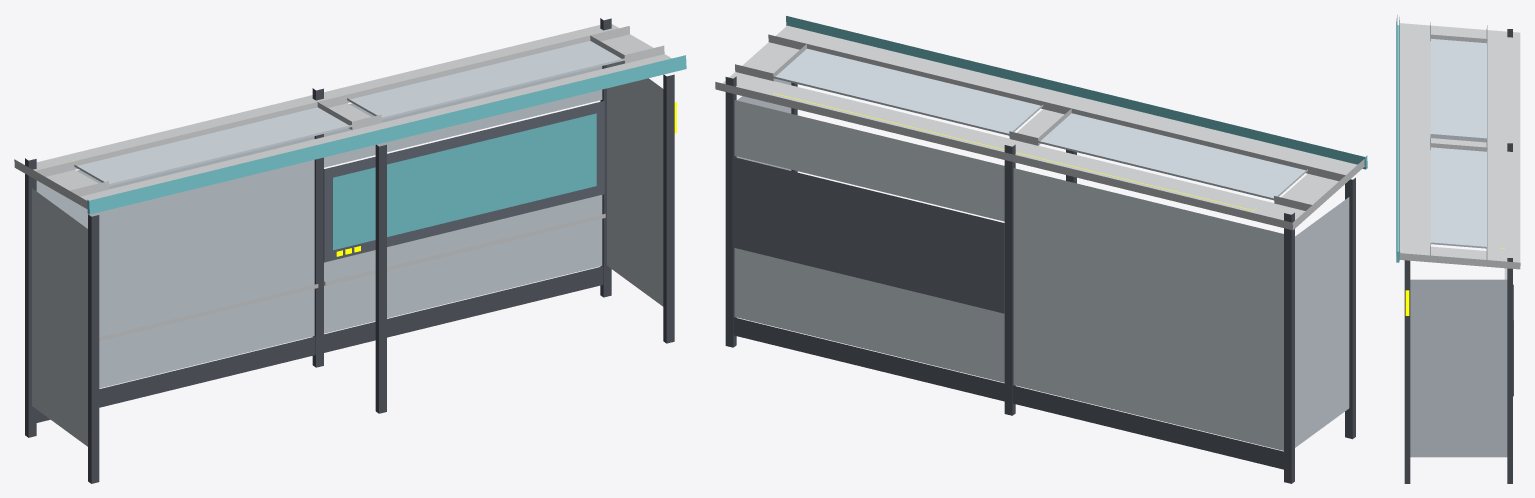
Rendered from ext_tram_shelter_03.glb.
3 views of the same model, side by side, from view 1: azimuth 30°, elevation 25°; view 2: azimuth 150°, elevation 25°; view 3: azimuth 270°, elevation 25° (orthographic). The views are drawn at different scales.
Visible parts, largest first — view 1: Rear_Glass, Side_Glass, Timetable_Screen, Roof_Frame, Posts, Skylight_Glass, Kick_Rails, Fascia, Timetable_Frame, Lean_Rail; view 2: Rear_Glass, Roof_Frame, Timetable_Frame, Skylight_Glass, Side_Glass, Kick_Rails, Posts, Fascia; view 3: Roof_Frame, Side_Glass, Skylight_Glass, Posts, Fascia.
Boxes of the visible parts, box(x1,y1,x2,y2) form: Rear_Glass: box(36, 66, 602, 388); Side_Glass: box(32, 61, 663, 446); Timetable_Screen: box(332, 113, 596, 250); Roof_Frame: box(14, 24, 671, 209); Posts: box(25, 18, 674, 483); Skylight_Glass: box(74, 41, 624, 185); Kick_Rails: box(36, 266, 603, 422); Fascia: box(87, 55, 686, 214); Timetable_Frame: box(323, 101, 604, 262); Lean_Rail: box(99, 213, 605, 341); Rear_Glass: box(734, 100, 1283, 450); Roof_Frame: box(715, 25, 1364, 230); Timetable_Frame: box(732, 156, 1004, 313); Skylight_Glass: box(773, 48, 1307, 200); Side_Glass: box(736, 79, 1349, 447); Kick_Rails: box(733, 317, 1283, 469); Posts: box(725, 76, 1355, 483); Fascia: box(786, 16, 1367, 169); Roof_Frame: box(1399, 17, 1520, 269); Side_Glass: box(1410, 135, 1507, 457); Skylight_Glass: box(1431, 39, 1486, 248); Posts: box(1404, 29, 1512, 483); Fascia: box(1396, 15, 1400, 262).
Bounding box in the file's own units: 6.02 × 2.78 × 1.33.
